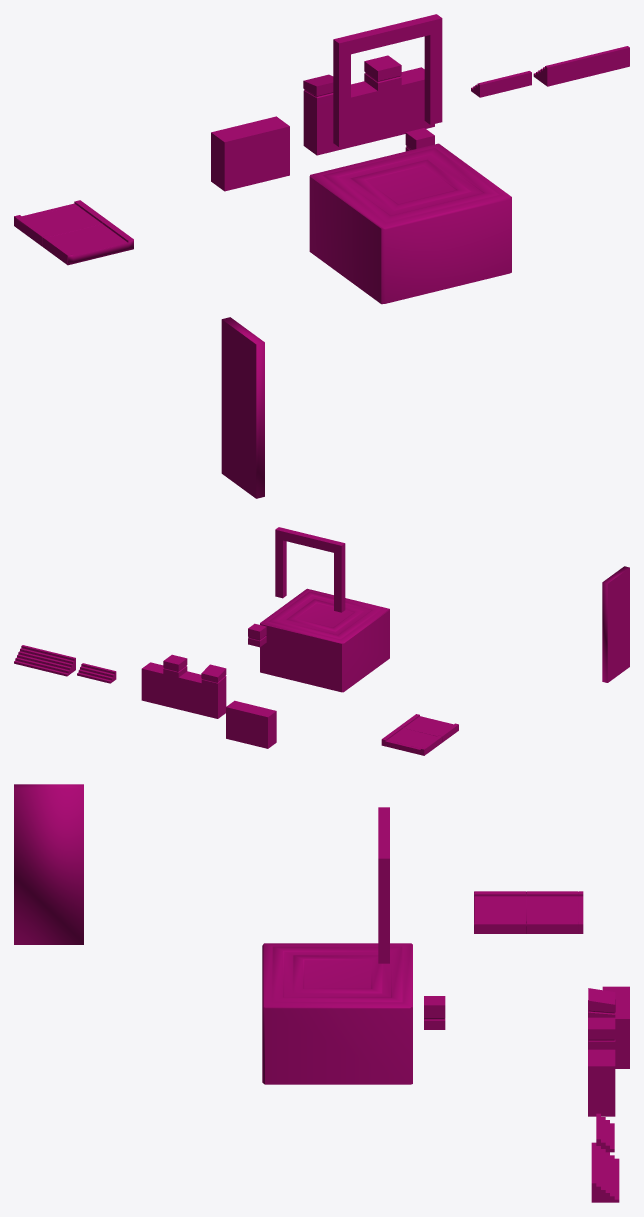
The model's file is uvgroup03_unity.fbx.
3 views of the same model, one above another, from view 1: azimuth 30°, elevation 25°; view 2: azimuth 150°, elevation 25°; view 3: azimuth 270°, elevation 25° (orthographic). The views are drawn at different scales.
Visible parts, largest first — view 1: Temple_floor_07_low, Temple_Wall_backs_low, Temple_fence01_low, Temple_Entrance_low, Temple_floor_00_low, Temple_brdige_parts02_low, Temple_brdige_parts01_low, Temple_Stair_02_low, Temple_fence01_deco01_low, Temple_Stair_01_low, Temple_fence01_deco02_low; view 2: Temple_floor_07_low, Temple_fence01_low, Temple_Wall_backs_low, Temple_Entrance_low, Temple_floor_00_low, Temple_Stair_02_low, Temple_brdige_parts01_low, Temple_brdige_parts02_low, Temple_Stair_01_low, Temple_fence01_deco01_low, Temple_fence01_deco02_low, Temple_fence02_low; view 3: Temple_floor_07_low, Temple_Wall_backs_low, Temple_brdige_parts01_low, Temple_brdige_parts02_low, Temple_fence01_low, Temple_Entrance_low, Temple_Stair_02_low, Temple_floor_00_low, Temple_fence01_deco01_low, Temple_fence01_deco02_low, Temple_fence02_low, Temple_Stair_01_low.
Boxes of the visible parts, <box> form: Temple_floor_07_low: <box>309,143,511,304</box>; Temple_Wall_backs_low: <box>221,317,264,498</box>; Temple_fence01_low: <box>303,67,434,155</box>; Temple_Entrance_low: <box>333,14,442,147</box>; Temple_floor_00_low: <box>211,116,289,191</box>; Temple_brdige_parts02_low: <box>42,221,133,265</box>; Temple_brdige_parts01_low: <box>14,200,107,246</box>; Temple_Stair_02_low: <box>533,46,629,86</box>; Temple_fence01_deco01_low: <box>364,55,401,90</box>; Temple_Stair_01_low: <box>471,71,531,97</box>; Temple_fence01_deco02_low: <box>303,74,333,105</box>; Temple_floor_07_low: <box>260,588,389,692</box>; Temple_fence01_low: <box>141,662,226,718</box>; Temple_Wall_backs_low: <box>602,566,629,682</box>; Temple_Entrance_low: <box>275,527,345,612</box>; Temple_floor_00_low: <box>226,700,276,748</box>; Temple_Stair_02_low: <box>14,645,75,676</box>; Temple_brdige_parts01_low: <box>381,726,442,755</box>; Temple_brdige_parts02_low: <box>400,714,458,742</box>; Temple_Stair_01_low: <box>77,663,116,683</box>; Temple_fence01_deco01_low: <box>163,654,187,677</box>; Temple_fence01_deco02_low: <box>201,664,226,686</box>; Temple_fence02_low: <box>248,623,266,647</box>; Temple_floor_07_low: <box>262,943,412,1084</box>; Temple_Wall_backs_low: <box>14,784,83,944</box>; Temple_brdige_parts01_low: <box>526,891,583,933</box>; Temple_brdige_parts02_low: <box>474,891,526,933</box>; Temple_fence01_low: <box>588,1049,615,1116</box>; Temple_Entrance_low: <box>378,807,389,963</box>; Temple_Stair_02_low: <box>591,1142,619,1202</box>; Temple_floor_00_low: <box>602,986,629,1068</box>; Temple_fence01_deco01_low: <box>588,1017,615,1049</box>; Temple_fence01_deco02_low: <box>588,988,615,1017</box>; Temple_fence02_low: <box>424,996,445,1029</box>; Temple_Stair_01_low: <box>596,1113,614,1152</box>.
Bounding box in the file's own units: 28829 × 10862 × 23036.
